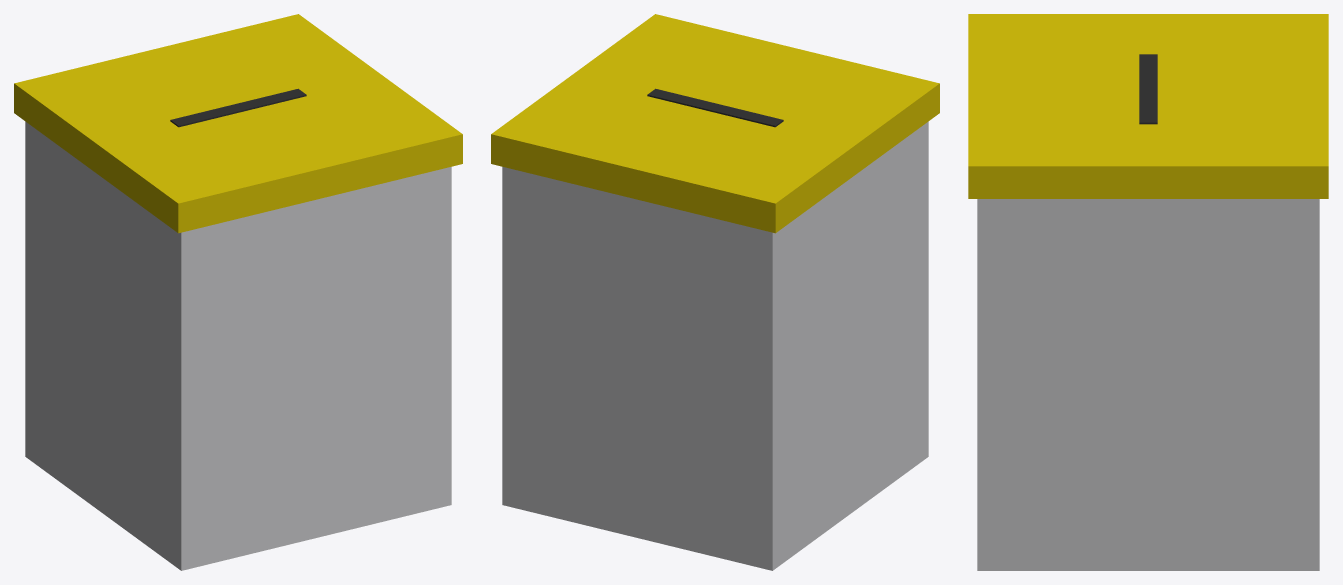
File: anfora.glb
3 views of the same model, side by side, from view 1: azimuth 30°, elevation 25°; view 2: azimuth 150°, elevation 25°; view 3: azimuth 270°, elevation 25° (orthographic). The views are drawn at different scales.
Parts seen in each view (by area): view 1: urn_body, urn_lid, urn_slot; view 2: urn_body, urn_lid, urn_slot; view 3: urn_body, urn_lid, urn_slot.
Part boxes in pixels (x1,y1,x2,y2): urn_body: (25,121,451,570); urn_lid: (14,14,462,233); urn_slot: (170,88,306,127); urn_body: (502,121,928,570); urn_lid: (491,14,939,233); urn_slot: (647,88,783,127); urn_body: (977,199,1319,570); urn_lid: (968,14,1328,198); urn_slot: (1139,54,1157,124).
Bounding box in the file's own units: 0.4 × 0.502 × 0.4.
